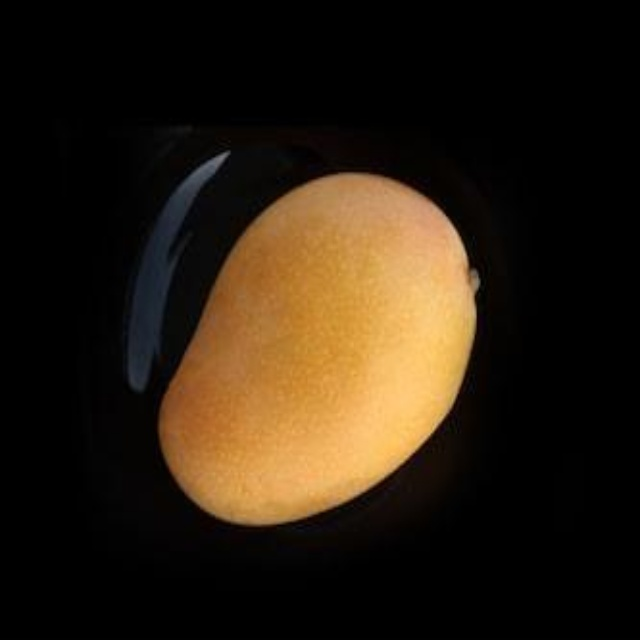mango: (162, 180, 480, 525)
